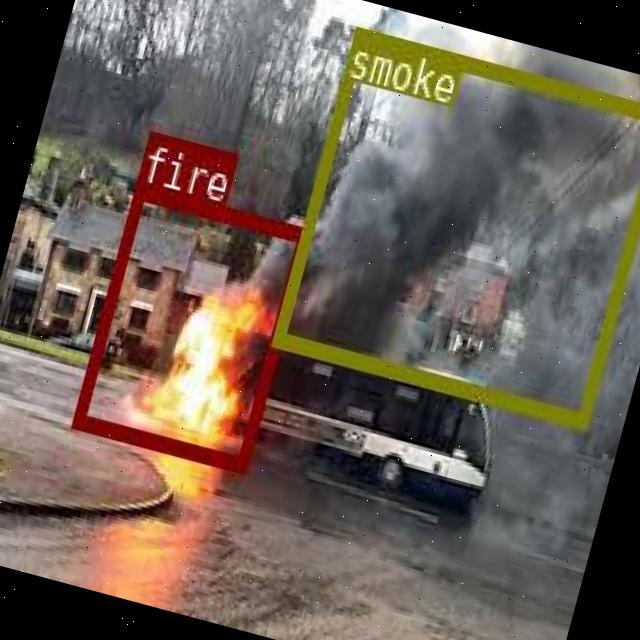fire: (70, 182, 308, 469)
smoke: (270, 24, 640, 425)
